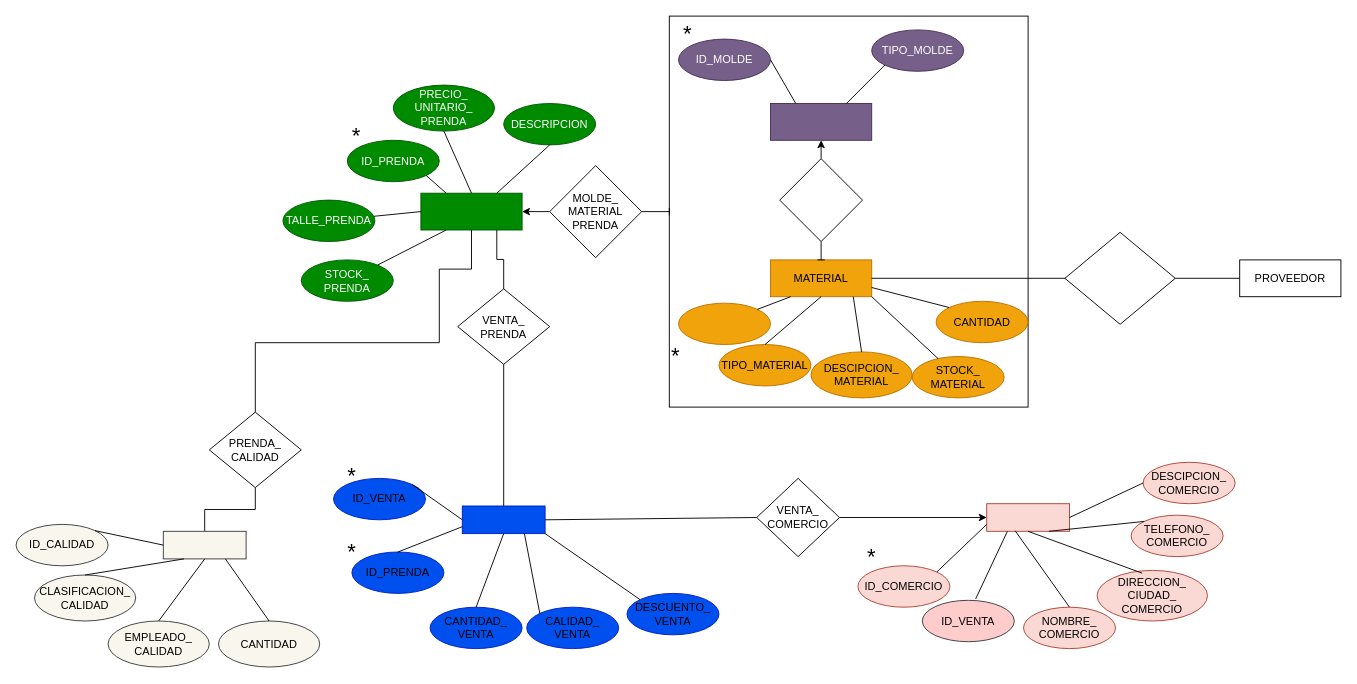
Image size: 1357x684. Some labels were removed from this diagram. The centre of each missing label's shape, as x and y in pixels:
CALIDAD: point 204,544
COMERCIO: point 1028,517
ID_MATERIAL: point 724,323
MATERIAL_ PROVEEDOR: point 1119,277
MOLDE: point 821,121
MOLDE_ MATERIAL: point 820,200
PRENDA: point 471,211
VENTA: point 503,519
